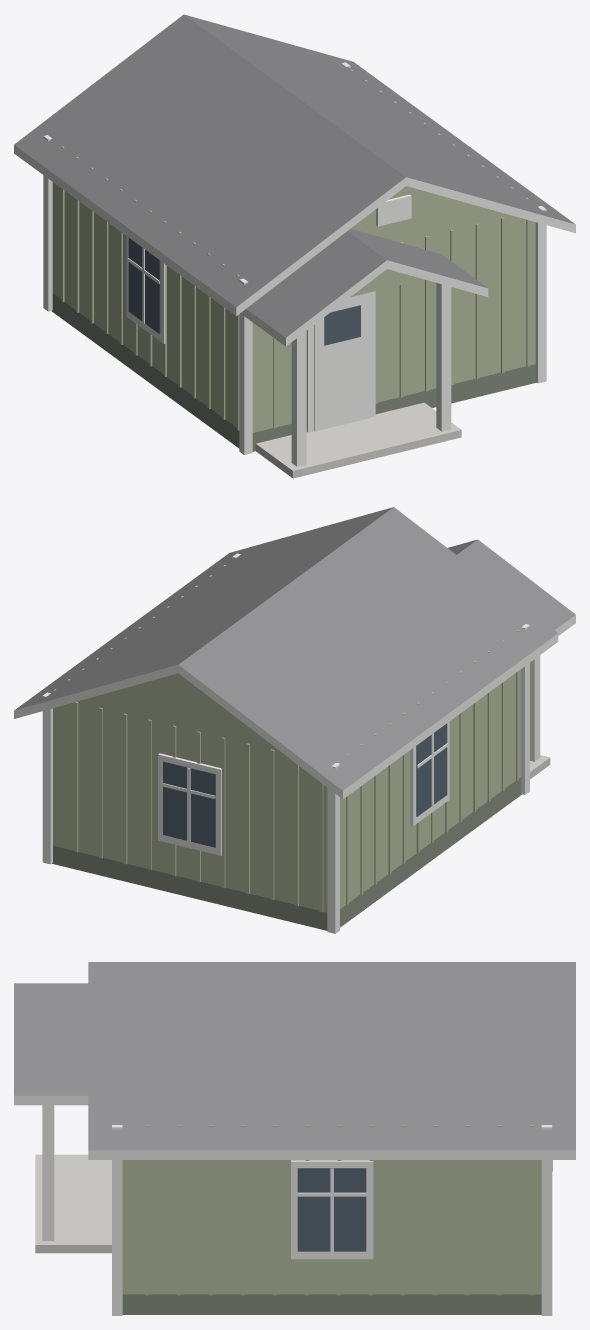
File: lathrop-sage.glb
3 views of the same model, one above another, from view 1: azimuth 30°, elevation 25°; view 2: azimuth 150°, elevation 25°; view 3: azimuth 270°, elevation 25° (orthographic). The views are drawn at different scales.
Parts seen in each view (by area): view 1: The Lathrop (sage); view 2: The Lathrop (sage); view 3: The Lathrop (sage).
Boxes of the visible parts, x1=… form: The Lathrop (sage): x1=14, y1=14, x2=575, y2=478; The Lathrop (sage): x1=14, y1=507, x2=575, y2=933; The Lathrop (sage): x1=14, y1=962, x2=575, y2=1315.
Size of the model in its own units: 5.64 by 3.97 by 7.37.
